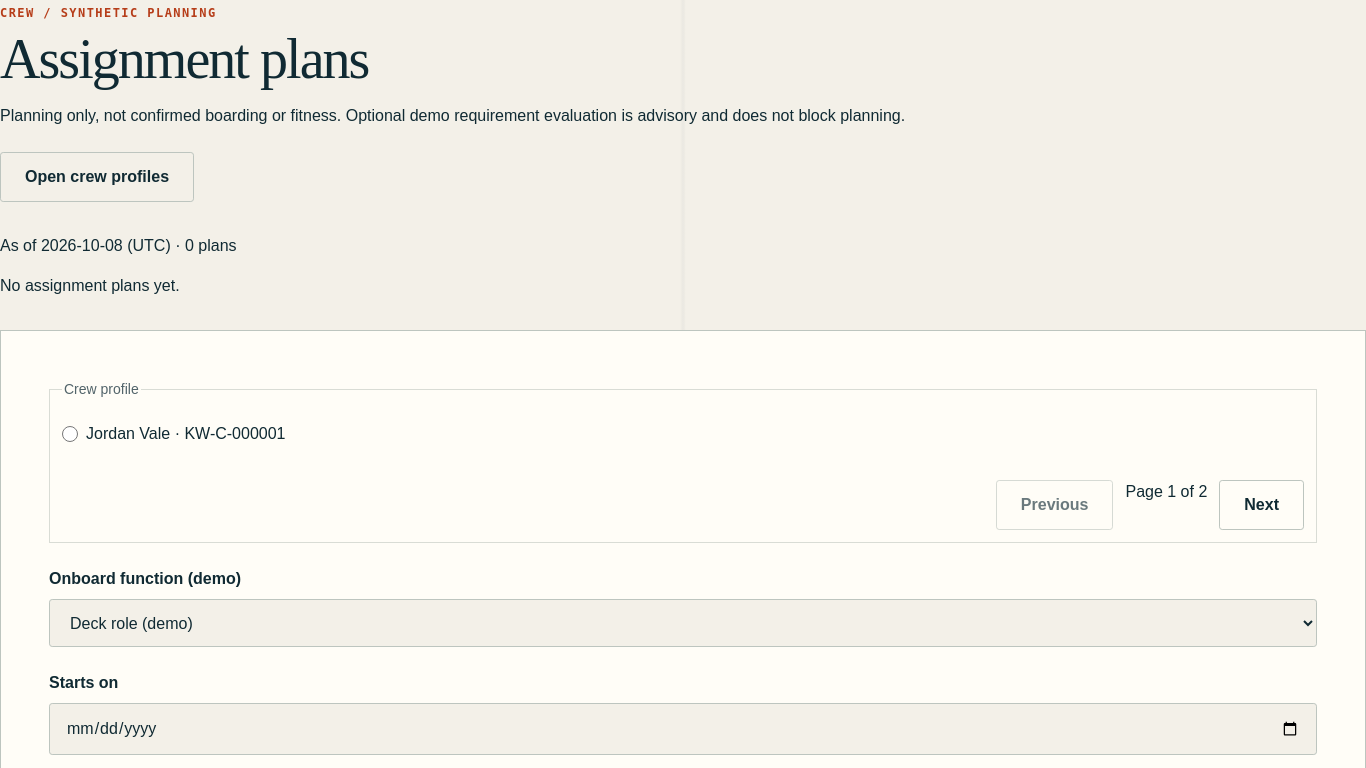
Test: Vessel assignment plans › keeps the selected profile across URL-backed pages without submitting the form
(page scrolled)
Click the radio button labelled "Jordan Vale · KW-C-000001" at (70, 434), box [62, 426, 78, 442]
(page scrolled)
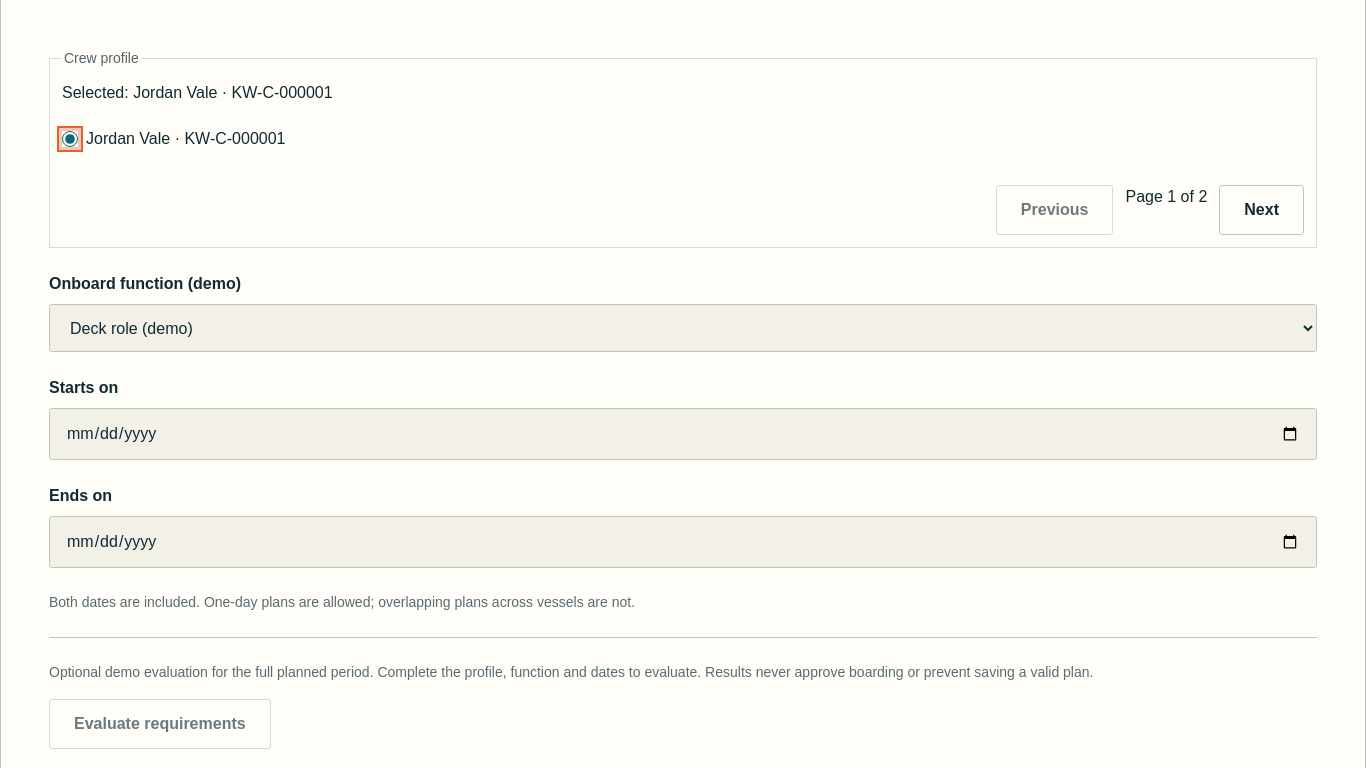
Type "2040-02-01" into the date field labelled "Starts on" at (683, 434), box [49, 408, 1317, 460]
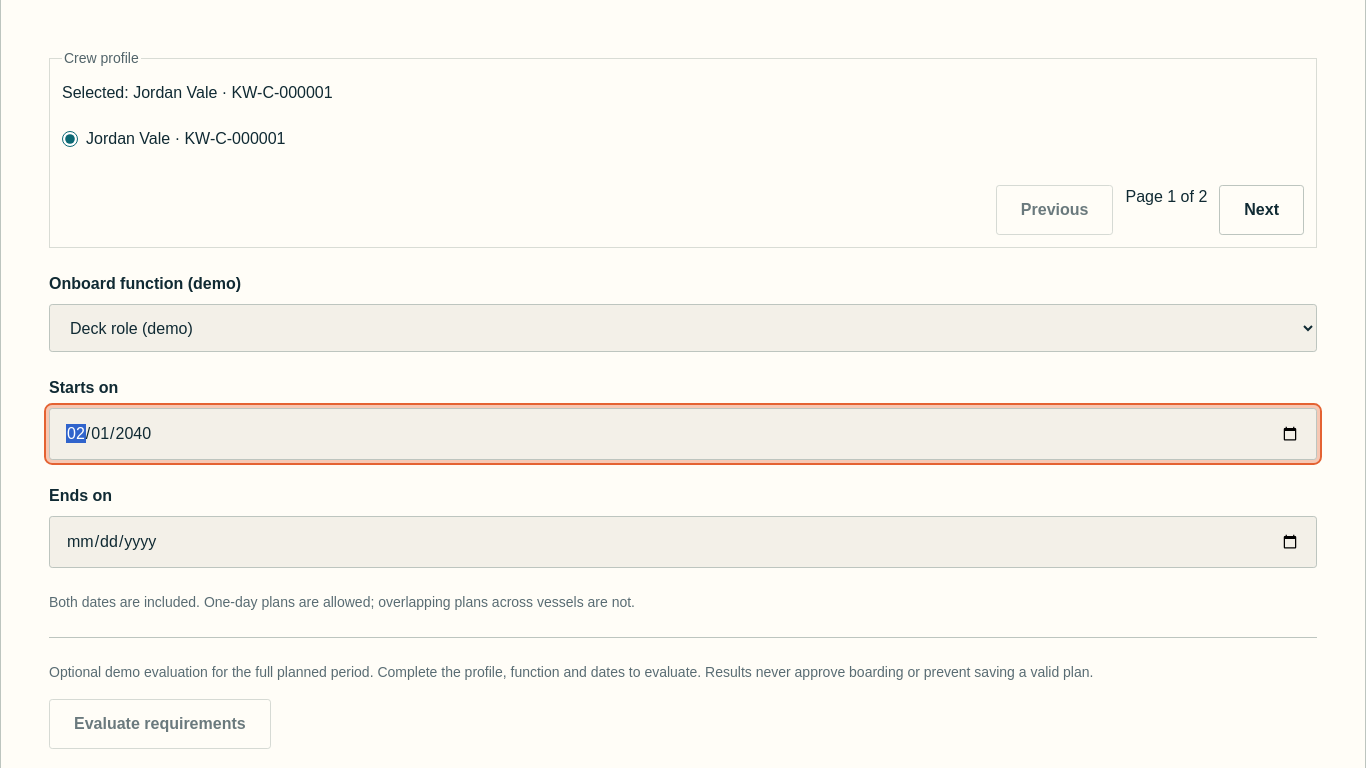
Type "2040-02-02" into the date field labelled "Ends on" at (683, 542), box [49, 516, 1317, 568]
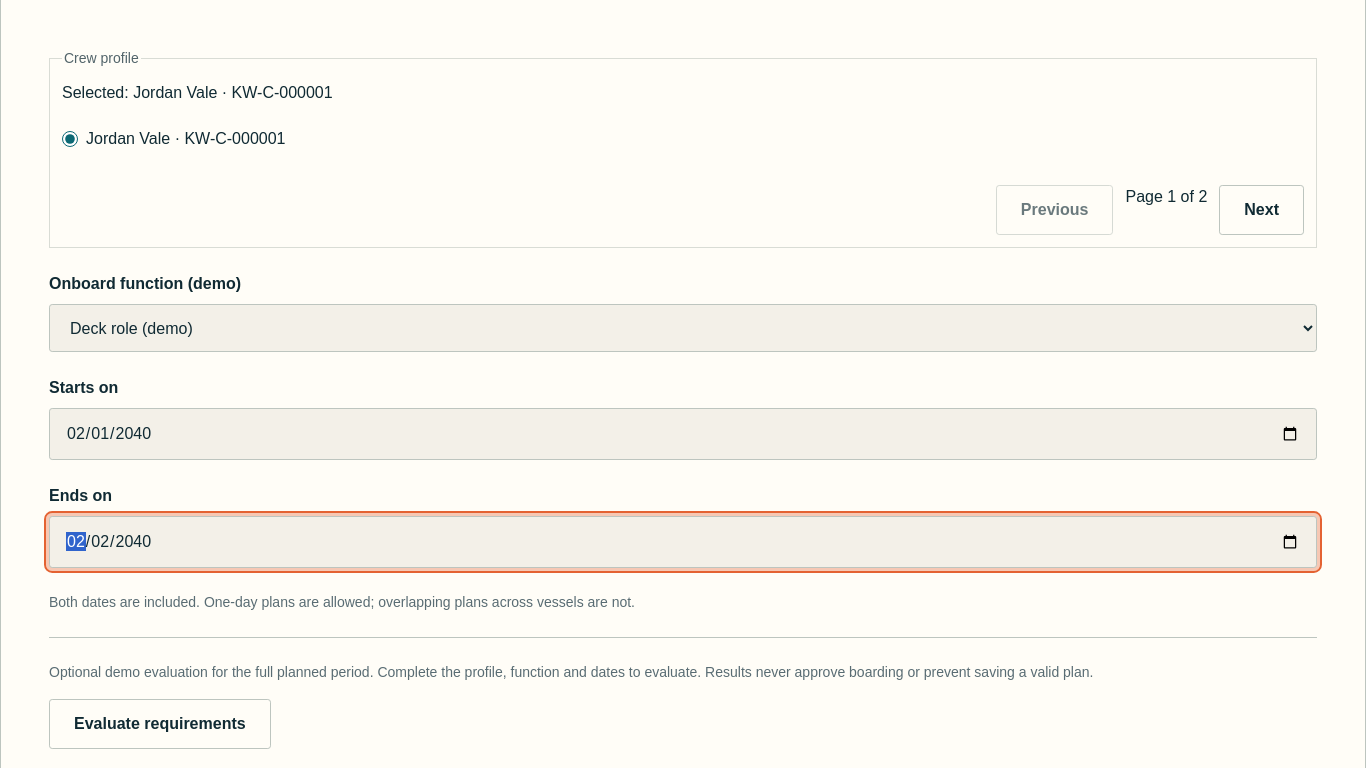
Click the button "Next" at (1262, 210), box [1219, 186, 1304, 236]
(page scrolled)
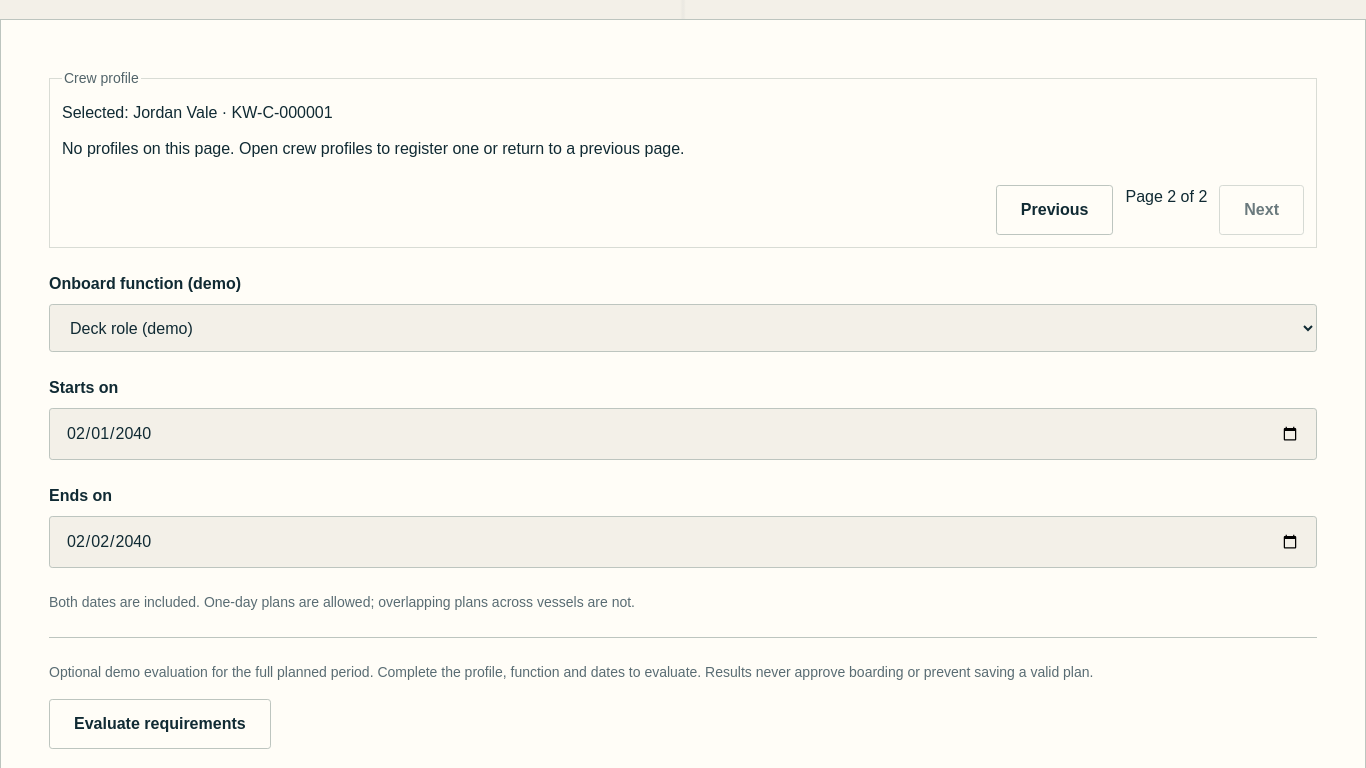
expect the text "Selected: Jordan Vale · KW-C-000001" is shown: met, box [62, 104, 333, 122]
expect the text "No profiles on this page" is shown: met, box [62, 140, 685, 158]
